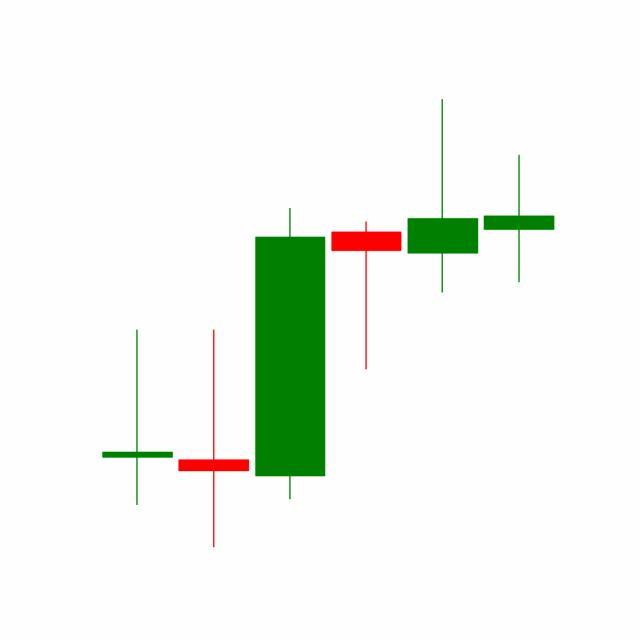Three Outside Up-Down: (326, 100, 555, 375)
